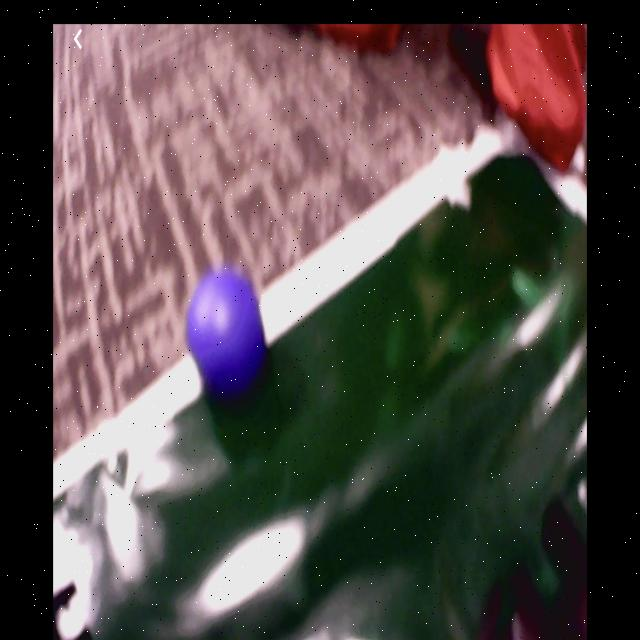ball: (186, 267, 263, 392)
